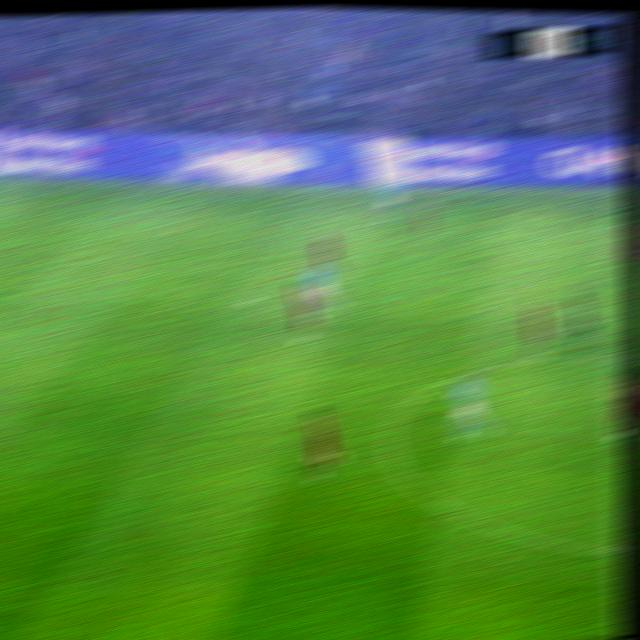halfcircle_bottom: (601, 536, 629, 569)
halfcircle_top: (597, 343, 629, 374)
midline_top_intersection: (598, 195, 627, 216)
